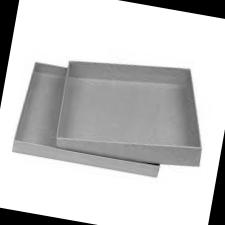cardboard: (42, 52, 212, 170)
